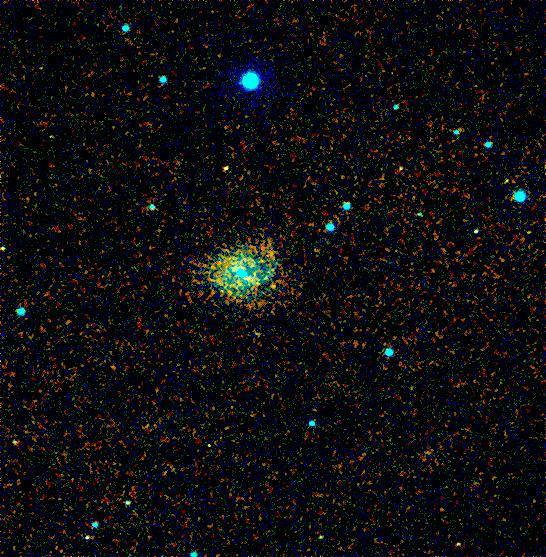star: (260, 271, 290, 301)
